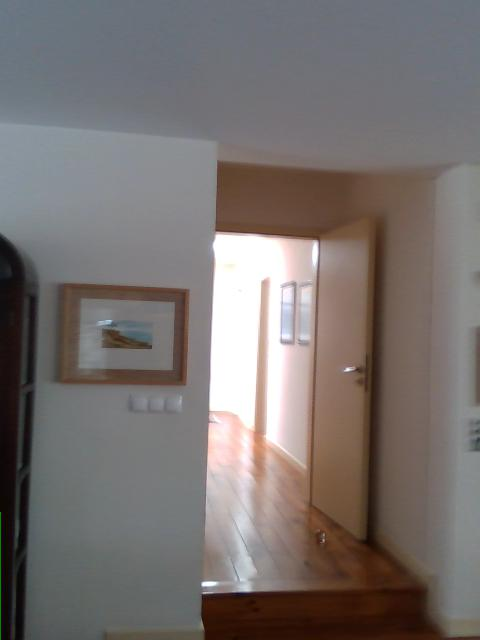open_door: (200, 225, 322, 504)
